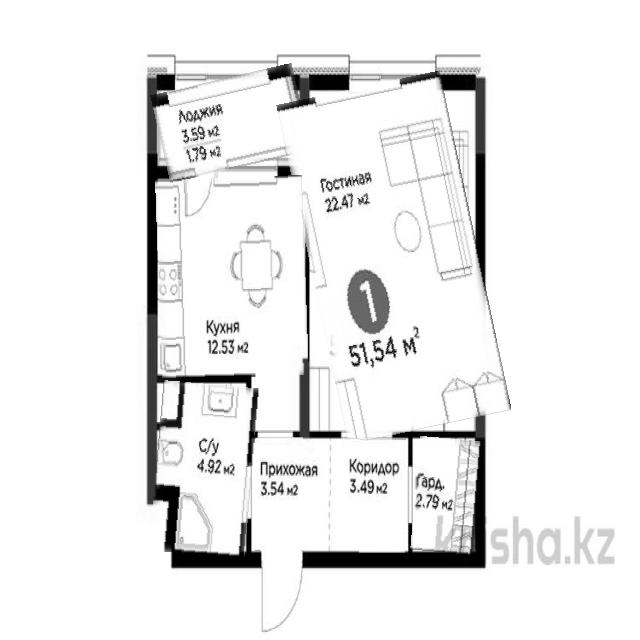balcony: (154, 71, 307, 175)
bathroom: (152, 382, 256, 557)
hallway: (256, 438, 406, 552)
kitchen: (156, 177, 306, 379)
living_room: (293, 77, 494, 438)
other: (413, 438, 482, 554)
